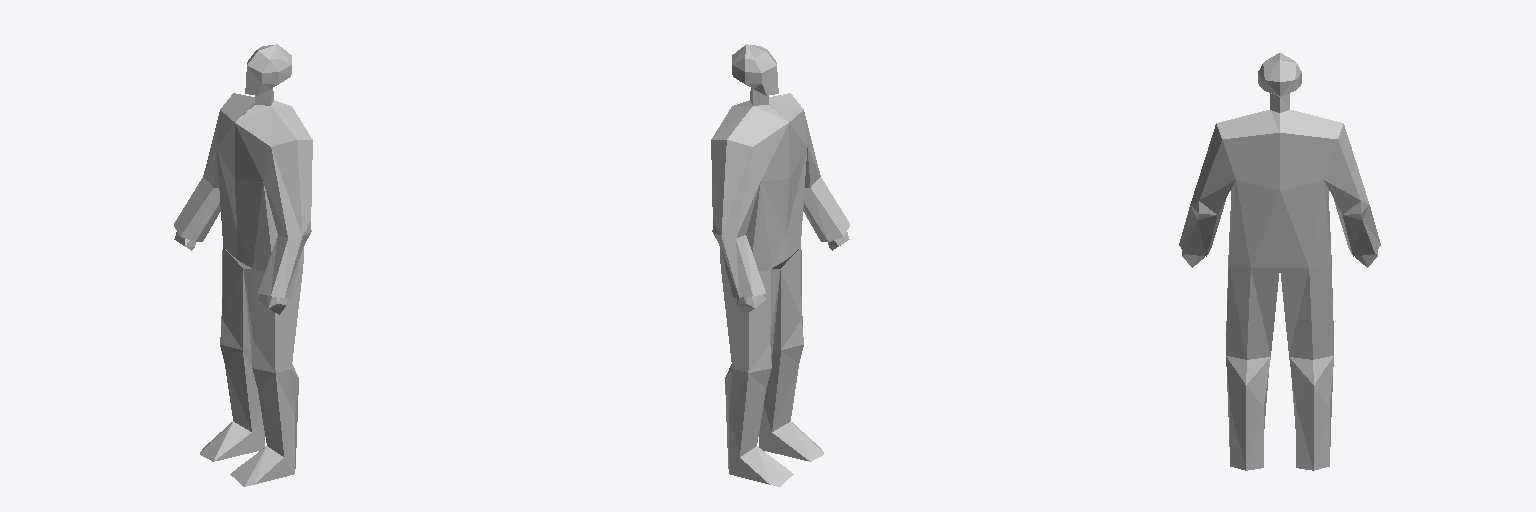
The model's file is franklin.obj.
3 views of the same model, side by side, from view 1: azimuth 30°, elevation 25°; view 2: azimuth 150°, elevation 25°; view 3: azimuth 270°, elevation 25° (orthographic).
Parts seen in each view (by area): view 1: Cube_Cube.001; view 2: Cube_Cube.001; view 3: Cube_Cube.001.
Part boxes in pixels (x1,y1,x2,y2): Cube_Cube.001: (174,44,312,486); Cube_Cube.001: (711,44,849,486); Cube_Cube.001: (1179,53,1380,470).
Bounding box in the file's own units: 1.17 × 6.23 × 2.76.